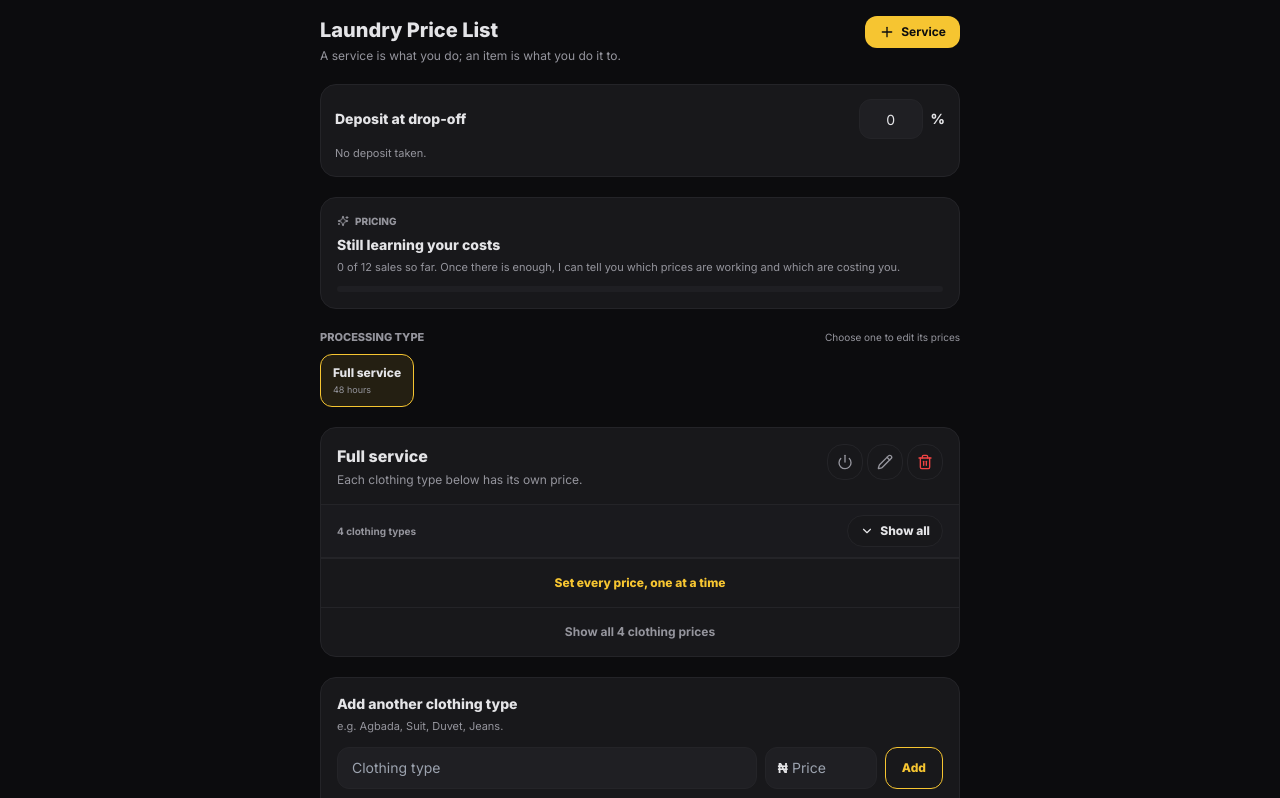
Test: a new per-item service with a typed price › puts that price on every item - none of the usual rates - and asks
The width and height of the screenshot is (1280, 798).
Click the button "Service" at (913, 32), box [865,16,960,48]
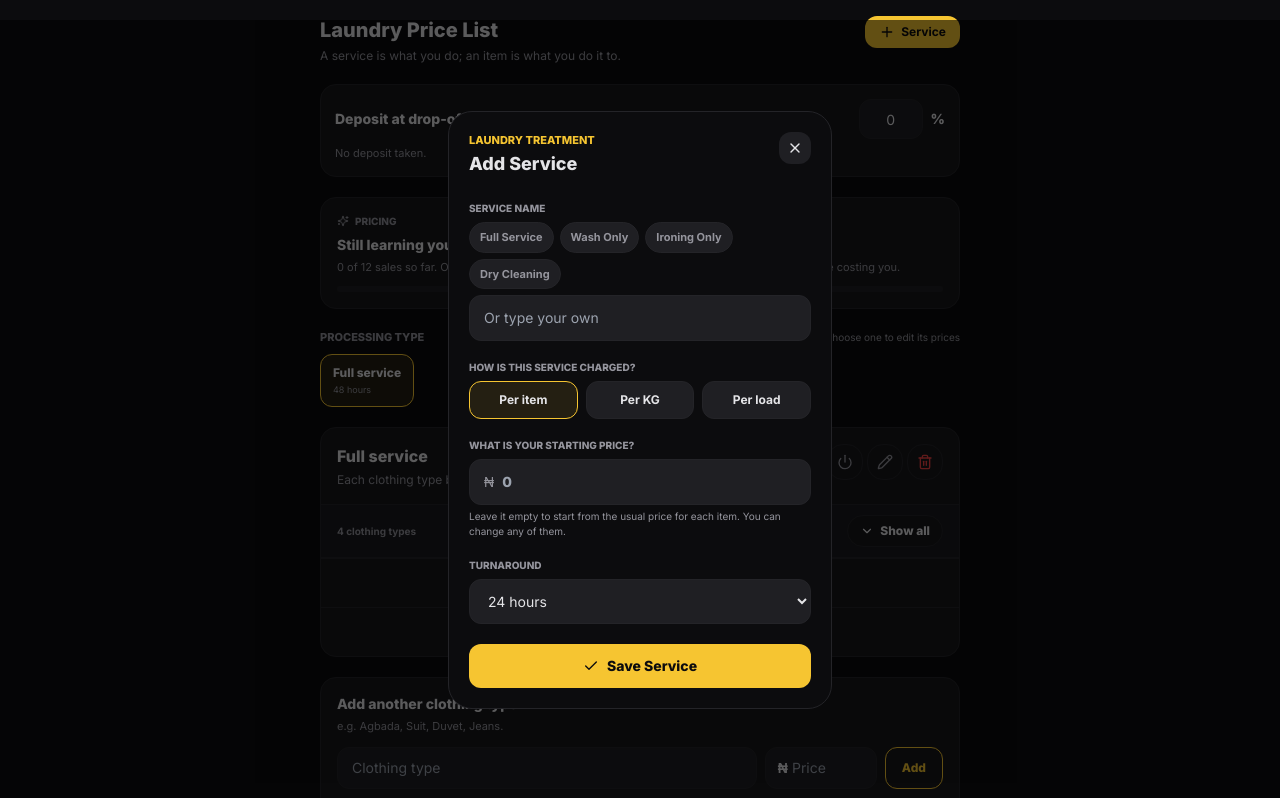
Type "Steam Press" into the field with placeholder "Or type your own" at (640, 318), box [469,295,811,341]
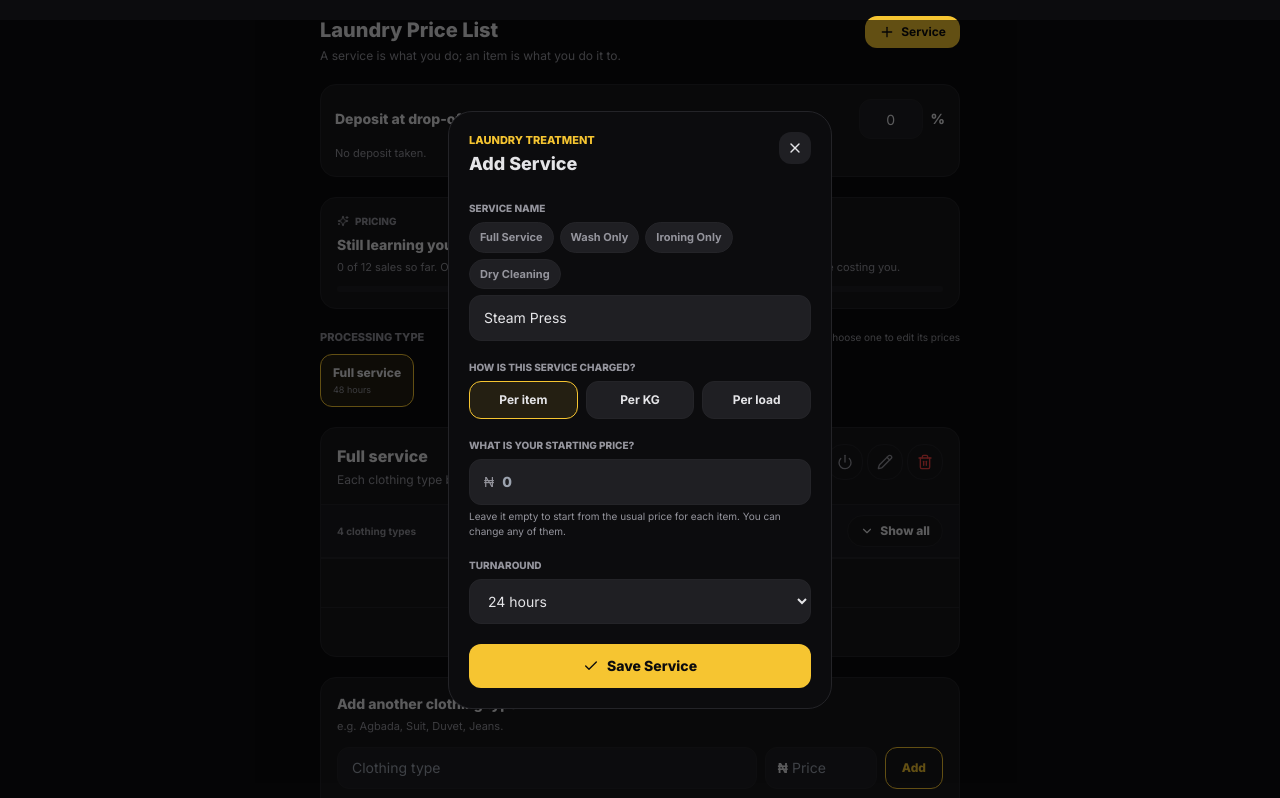
Type "500" into the field with placeholder "0" at (649, 482), box [502,472,796,492]
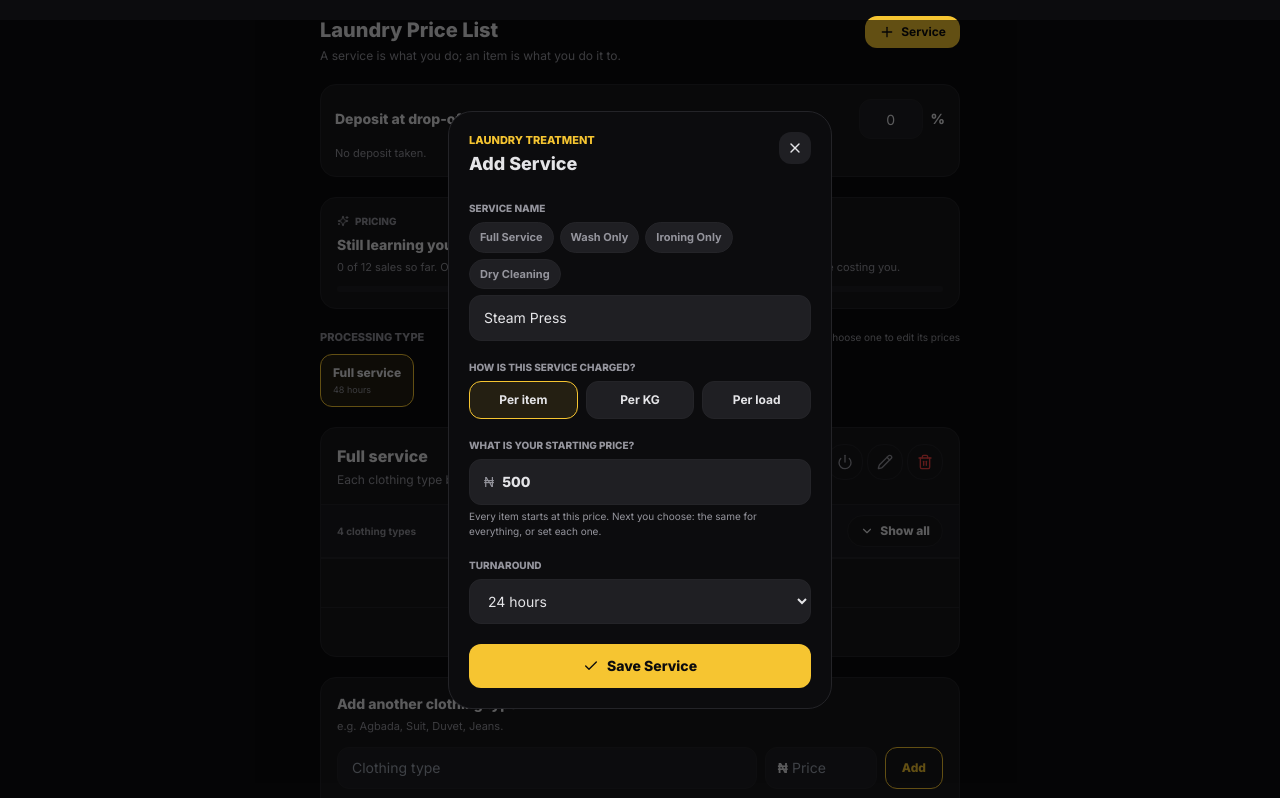
Click the button "Save Service" at (640, 666), box [469,644,811,688]
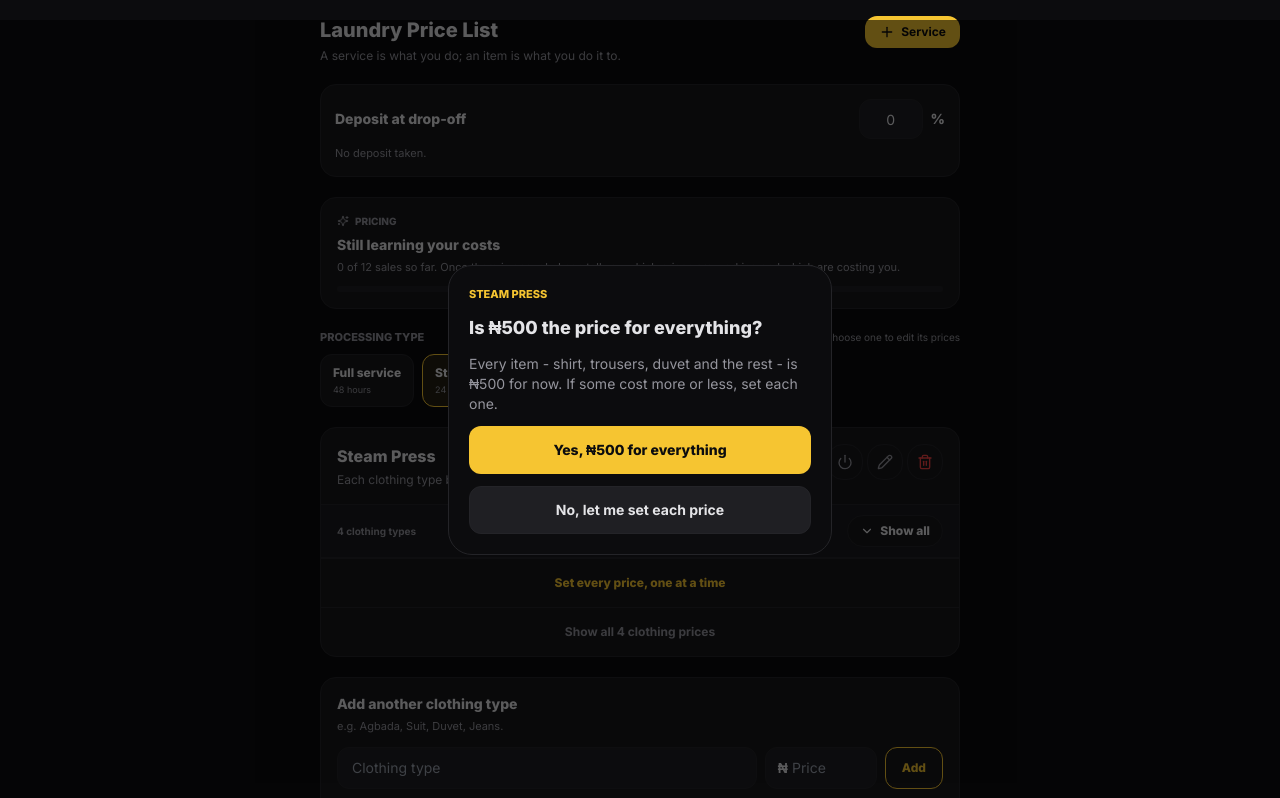
Expected: the dialog "price for everything?" shows "Is ₦500 the price for everything?", [448,265,832,555]
